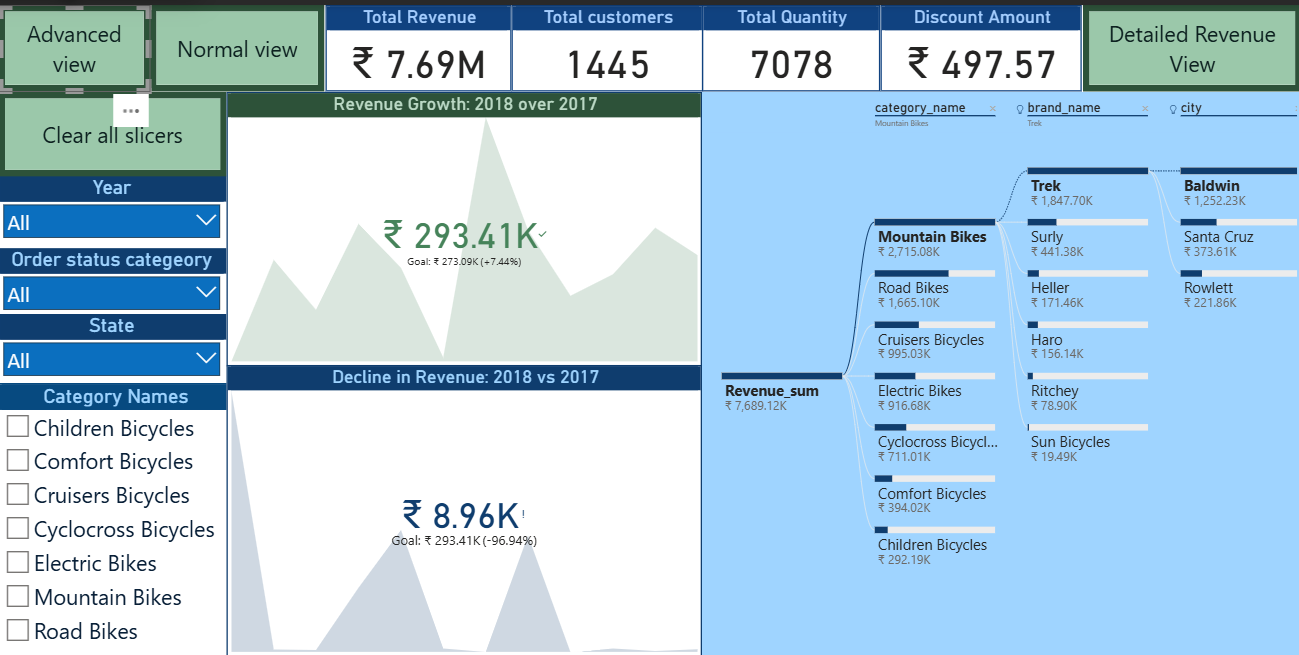

The dashboard page shown, as its layout file describes it:
{"tool":"powerbi","page":{"name":"Bike_Revenue_report","canvas":[2000,1000],"ordinal":0},"visuals":[{"type":"card","title":"Total Revenue","fields":{"Values":["Table.Revenue_sum"]},"box":[502.9,0,285.3,132.4],"z":0},{"type":"card","title":"Total customers","fields":{"Values":["Table.total_customers"]},"box":[788.2,0,294.1,132.4],"z":1000},{"type":"slicer","title":"Order status categeory","fields":{"Values":["orders.order_status_category"]},"box":[0,372.5,352.1,104.8],"z":2000},{"type":"slicer","title":"Year","fields":{"Values":["orders.order_date.Variation.Date Hierarchy.Year"]},"box":[0,261.9,352.1,110.6],"z":3000},{"type":"slicer","title":"State","fields":{"Values":["customers.state"]},"box":[0,474.3,352.1,104.8],"z":4000},{"type":"actionButton","box":[2.9,132.4,350,129.4],"z":5000},{"type":"slicer","title":"Category Names","fields":{"Values":["categories.category_name"]},"box":[0,579.1,360.8,421.9],"z":6000},{"type":"card","title":"Total Quantity","fields":{"Values":["Sum(order_items.quantity)"]},"box":[1082.4,0,273.5,132.4],"z":7000},{"type":"card","title":"Discount Amount","fields":{"Values":["Sum(order_items.discount)"]},"box":[1355.9,0,308.8,132.4],"z":8000},{"type":"actionButton","box":[1664.7,0,335.3,132.4],"z":9000},{"type":"actionButton","box":[2.9,0,232.4,132.4],"z":10000},{"type":"areaChart","title":"Revenue by Year and Quarter","fields":{"Category":["orders.order_date.Variation.Date Hierarchy.Year","orders.order_date.Variation.Date Hierarchy.Quarter"],"Y":["Table.Revenue_sum"]},"box":[361.8,123.5,908.8,414.7],"z":11000},{"type":"pieChart","title":"Revenue by Brand Name","fields":{"Category":["brands.brand_name"],"Y":["Table.Revenue_sum"]},"box":[1270.6,538.2,729.4,461.8],"z":12000},{"type":"clusteredColumnChart","title":"Revenue by Category Name and City","fields":{"Y":["Table.Revenue_sum"],"Category":["categories.category_name"],"Series":["stores.city"]},"box":[361.8,538.2,908.8,461.8],"z":13000},{"type":"barChart","fields":{"Category":["stores.store_name"],"Y":["Table.Revenue_sum"]},"box":[1270.6,123.5,729.4,414.7],"z":14000},{"type":"actionButton","box":[235.3,0,267.6,132.4],"z":18000}]}

Visuals, with their boxes on the page's 2000x1000 design canvas (x1, y1, x2, y2). These are canvas units, not pixel positions in the 1299x655 screenshot, which may show the page scaled, cropped or inside an application window:
"Total Revenue" card: BBox(503, 0, 788, 132)
"Total customers" card: BBox(788, 0, 1082, 132)
"Order status categeory" slicer: BBox(0, 372, 352, 477)
"Year" slicer: BBox(0, 262, 352, 372)
"State" slicer: BBox(0, 474, 352, 579)
actionButton: BBox(3, 132, 353, 262)
"Category Names" slicer: BBox(0, 579, 361, 1001)
"Total Quantity" card: BBox(1082, 0, 1356, 132)
"Discount Amount" card: BBox(1356, 0, 1665, 132)
actionButton: BBox(1665, 0, 2000, 132)
actionButton: BBox(3, 0, 235, 132)
"Revenue by Year and Quarter" areaChart: BBox(362, 124, 1271, 538)
"Revenue by Brand Name" pieChart: BBox(1271, 538, 2000, 1000)
"Revenue by Category Name and City" clusteredColumnChart: BBox(362, 538, 1271, 1000)
barChart - stores.store_name x Table.Revenue_sum: BBox(1271, 124, 2000, 538)
actionButton: BBox(235, 0, 503, 132)
